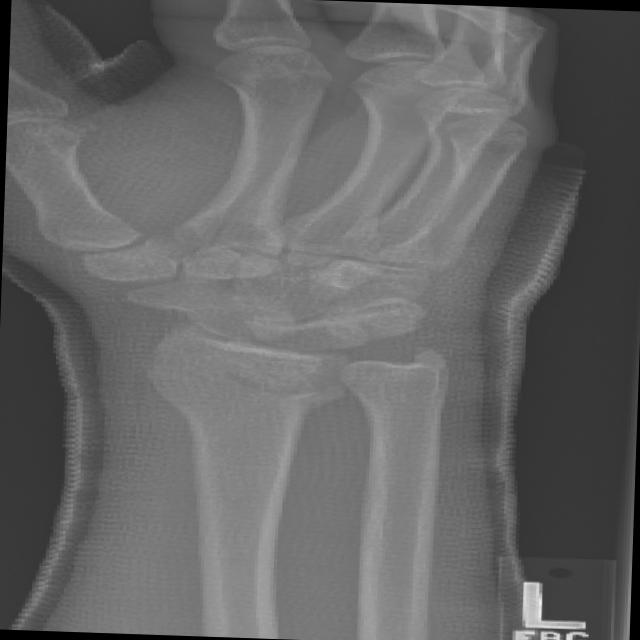wrist positive: (178, 350, 413, 423)
